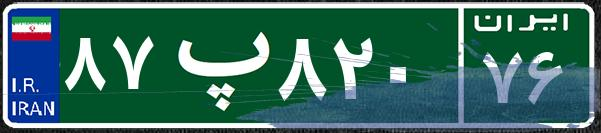0: (385, 28, 445, 110)
2: (330, 28, 385, 110)
6: (525, 38, 570, 115)
7: (475, 38, 525, 113), (110, 28, 158, 105)
8: (273, 28, 330, 110), (57, 26, 110, 107)
پ: (158, 15, 273, 115)
